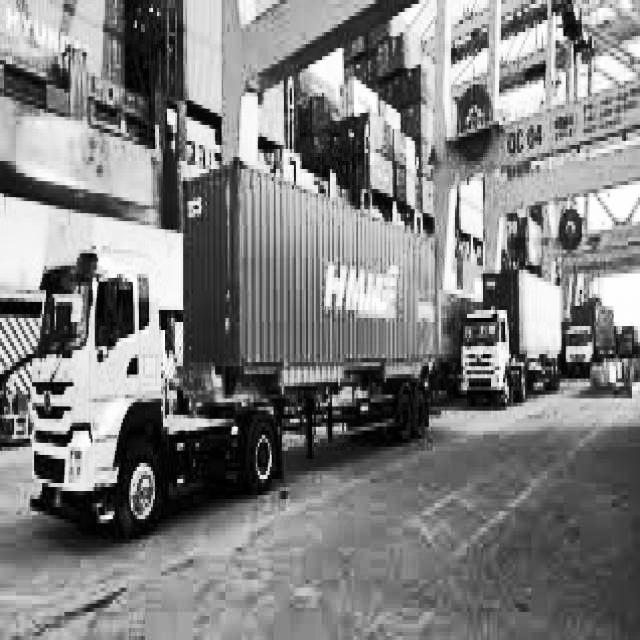HCV: (23, 136, 443, 553), (455, 257, 575, 431)
